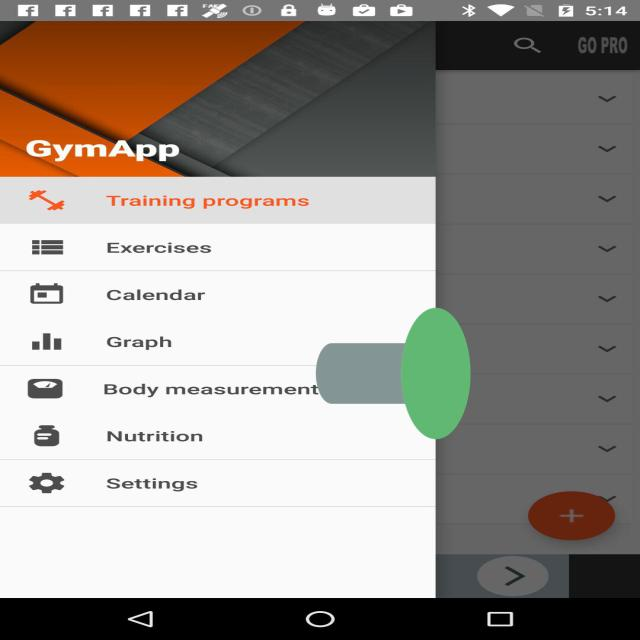social proof: (316, 227, 470, 520)
